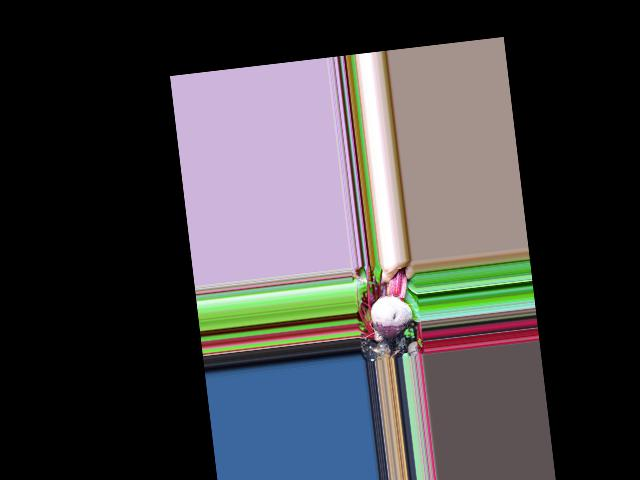beet: (365, 267, 417, 360)
